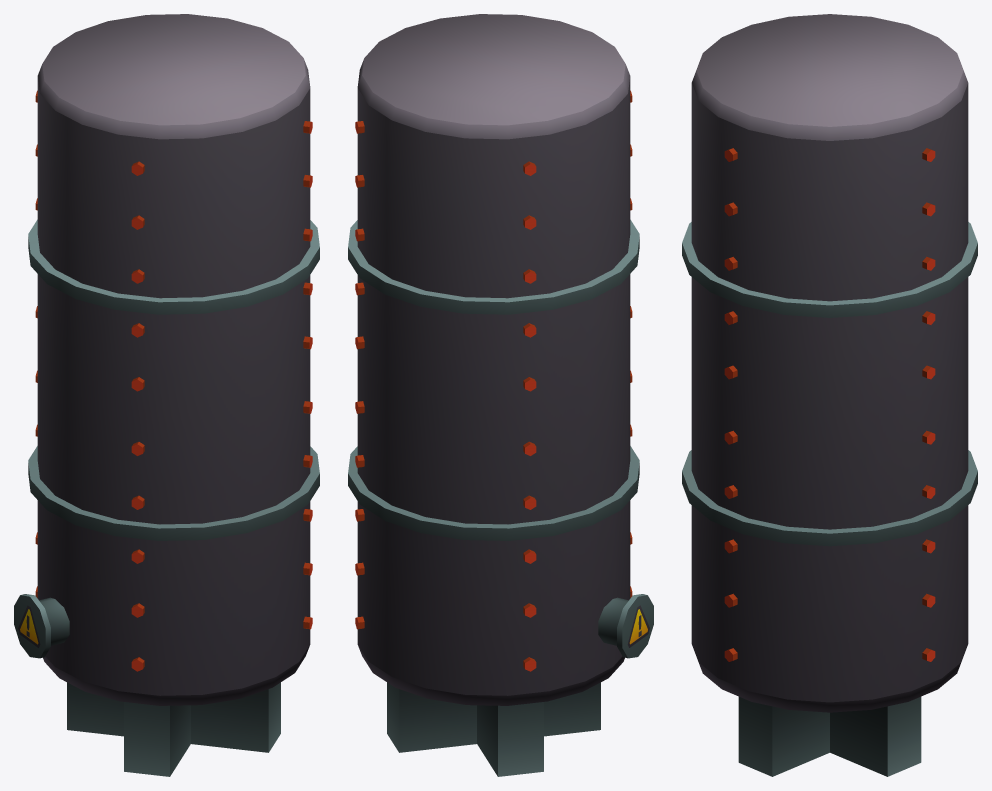
The model's file is Tank_3B.fbx.
3 views of the same model, side by side, from view 1: azimuth 30°, elevation 25°; view 2: azimuth 150°, elevation 25°; view 3: azimuth 270°, elevation 25° (orthographic).
Visible parts, largest first — view 1: Tank_3B; view 2: Tank_3B; view 3: Tank_3B.
Part boxes in pixels (x1,y1,x2,y2): Tank_3B: (14, 14, 319, 776); Tank_3B: (348, 14, 653, 776); Tank_3B: (682, 14, 977, 776).
Bounding box in the file's own units: 2.65 × 6.14 × 2.47.
